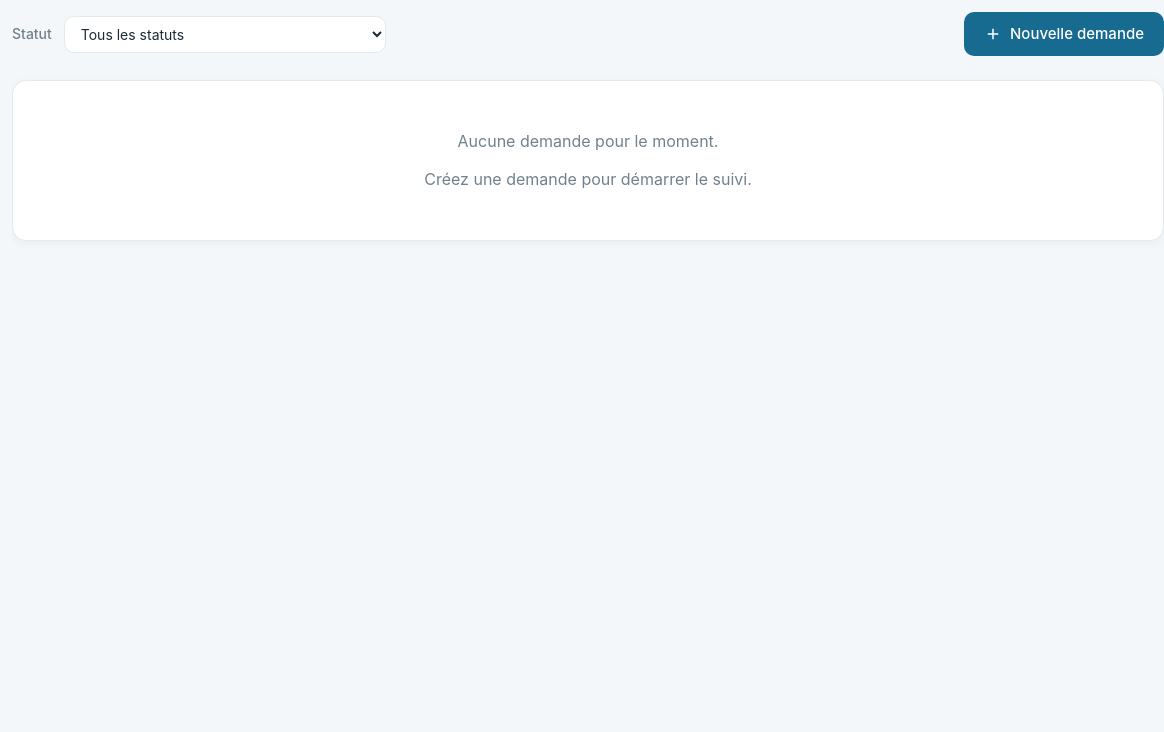
Scenario: parcours complet : liste → création brouillon → détail → modification → soumission → retour liste
Later steps or results of the test are not shown.
Click the link "Nouvelle demande": (1064, 34) [964,12,1163,56]
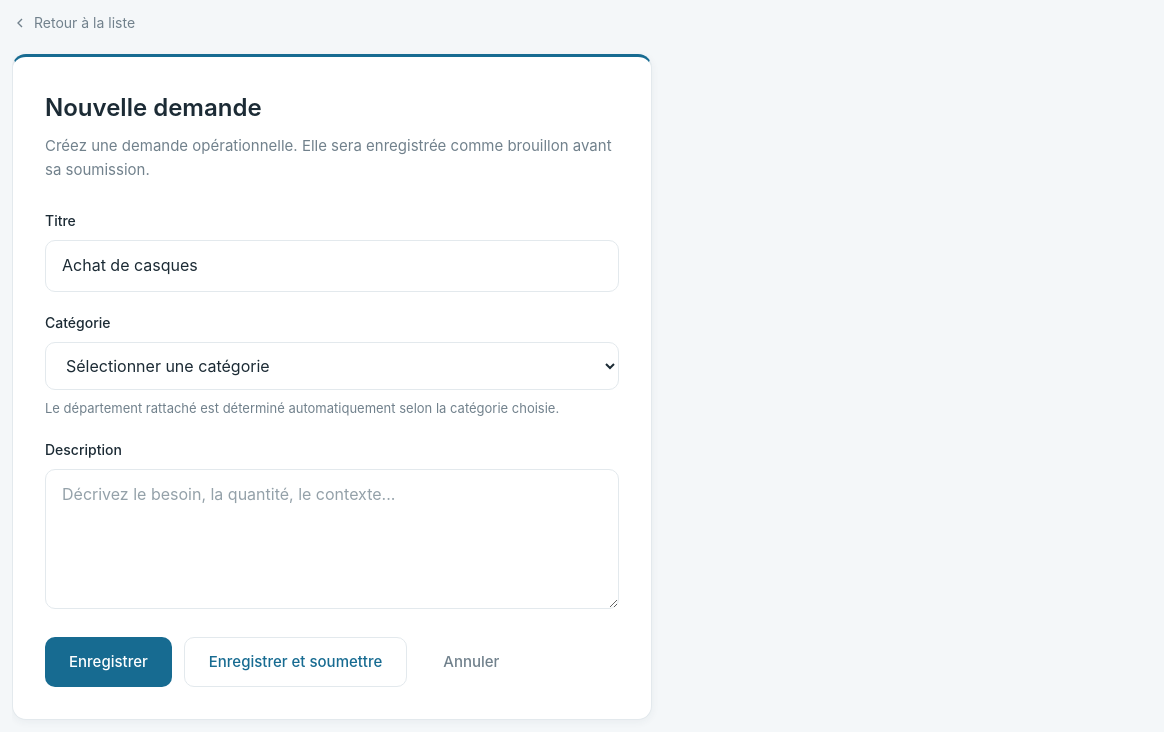
Result: the field with id "create-title" is shown at [45,240,619,292]
